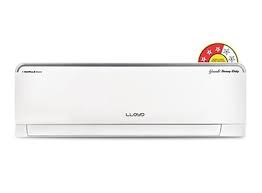ac: (12, 59, 250, 142)
